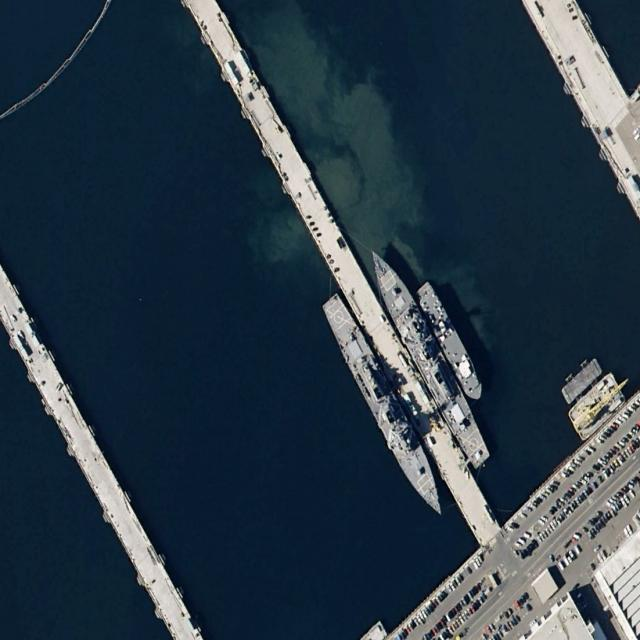Destroyer: (318, 287, 454, 523), (361, 239, 494, 473)
Other Warship: (412, 279, 488, 406)
